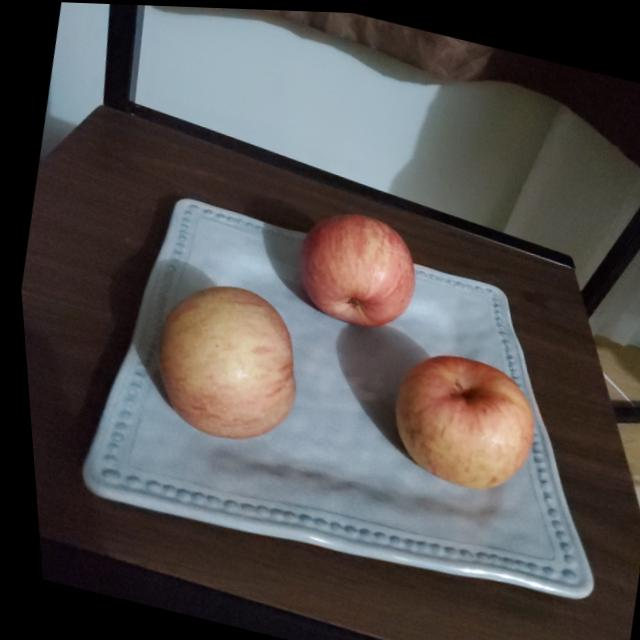apple: (135, 269, 315, 458), (373, 338, 546, 498), (281, 199, 427, 336)
